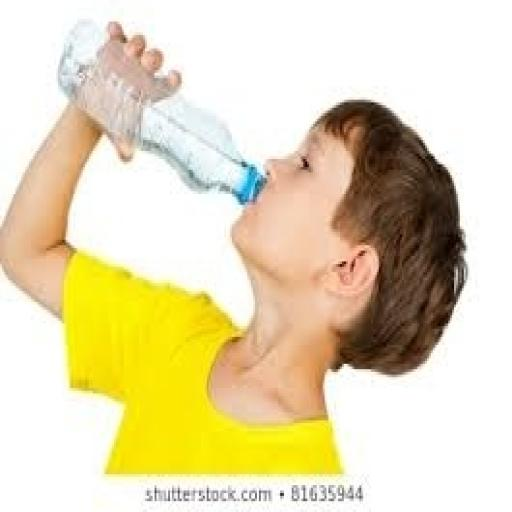drinking: (56, 16, 267, 205)
